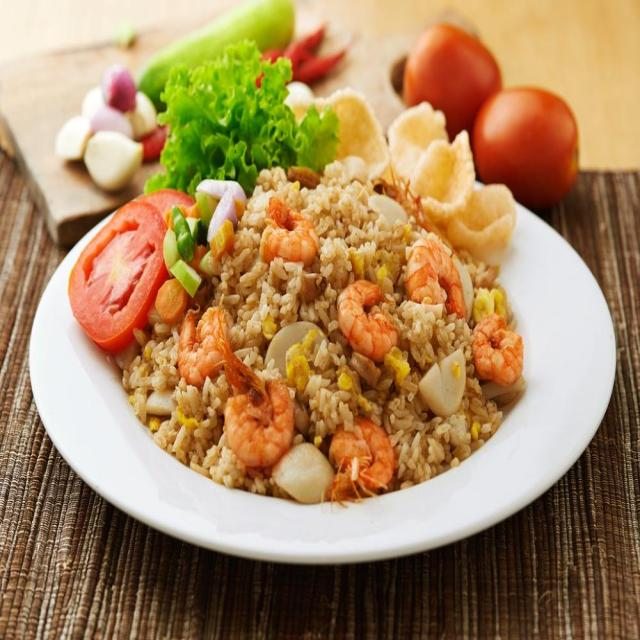Nasi Goreng: (130, 194, 528, 486)
